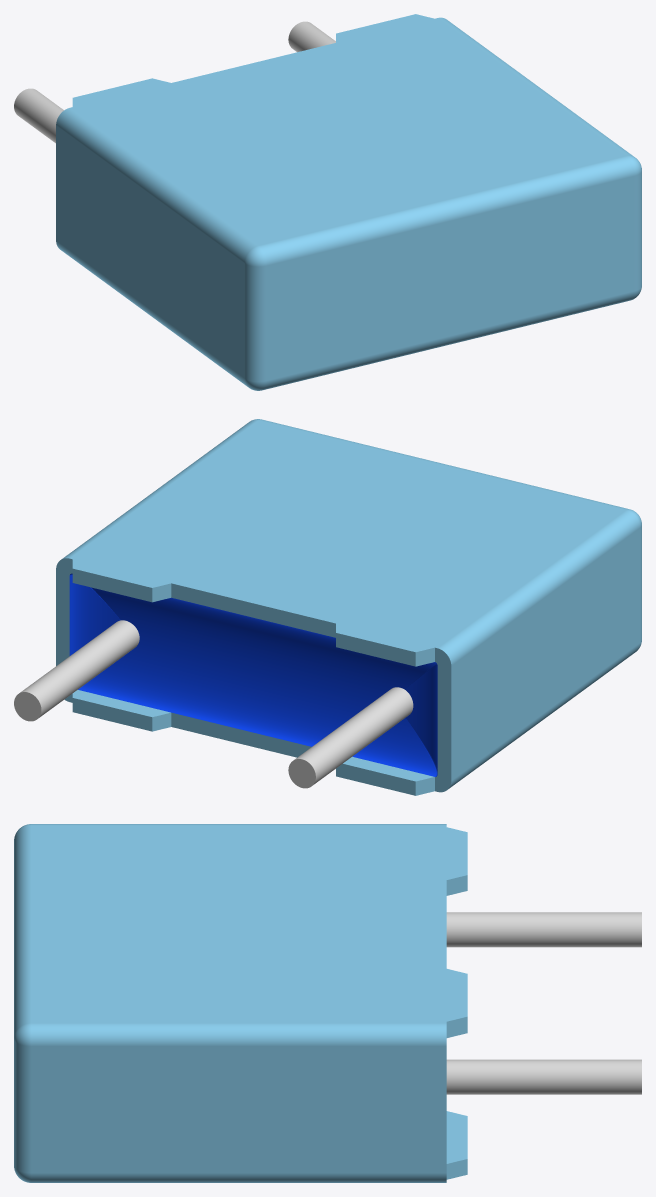
The picture shows the model from 3 angles, top to bottom: view 1: azimuth 30°, elevation 25°; view 2: azimuth 150°, elevation 25°; view 3: azimuth 270°, elevation 25°; orthographic projection. The views are drawn at different scales.
Visible parts, largest first — view 1: INPUT-13|:|B8A4396250C5687B1D31E70758B30729E1AC4426, INPUT-13|:|C906BBC760572095F726B39B13C9EDE80CDE5667, INPUT-13|:|62A847F87F404A1386DF7AE3239C498F49D94DDE; view 2: INPUT-13|:|B8A4396250C5687B1D31E70758B30729E1AC4426, INPUT-13|:|B8A4396250C5687B1D31E70758B30729E1AC4426.001, INPUT-13|:|62A847F87F404A1386DF7AE3239C498F49D94DDE, INPUT-13|:|C906BBC760572095F726B39B13C9EDE80CDE5667; view 3: INPUT-13|:|B8A4396250C5687B1D31E70758B30729E1AC4426, INPUT-13|:|62A847F87F404A1386DF7AE3239C498F49D94DDE, INPUT-13|:|C906BBC760572095F726B39B13C9EDE80CDE5667.
Boxes of the visible parts, x1,y1,x2,y2 form: INPUT-13|:|B8A4396250C5687B1D31E70758B30729E1AC4426: (56,14,641,390); INPUT-13|:|C906BBC760572095F726B39B13C9EDE80CDE5667: (14,88,63,143); INPUT-13|:|62A847F87F404A1386DF7AE3239C498F49D94DDE: (288,21,335,52); INPUT-13|:|B8A4396250C5687B1D31E70758B30729E1AC4426: (56,419,641,795); INPUT-13|:|B8A4396250C5687B1D31E70758B30729E1AC4426.001: (69,573,437,776); INPUT-13|:|62A847F87F404A1386DF7AE3239C498F49D94DDE: (14,620,139,721); INPUT-13|:|C906BBC760572095F726B39B13C9EDE80CDE5667: (288,687,413,788); INPUT-13|:|B8A4396250C5687B1D31E70758B30729E1AC4426: (14,824,467,1182); INPUT-13|:|62A847F87F404A1386DF7AE3239C498F49D94DDE: (446,1059,641,1094); INPUT-13|:|C906BBC760572095F726B39B13C9EDE80CDE5667: (446,912,641,947).
Size of the model in its own units: 0.2835 by 0.0984 by 0.3543.
